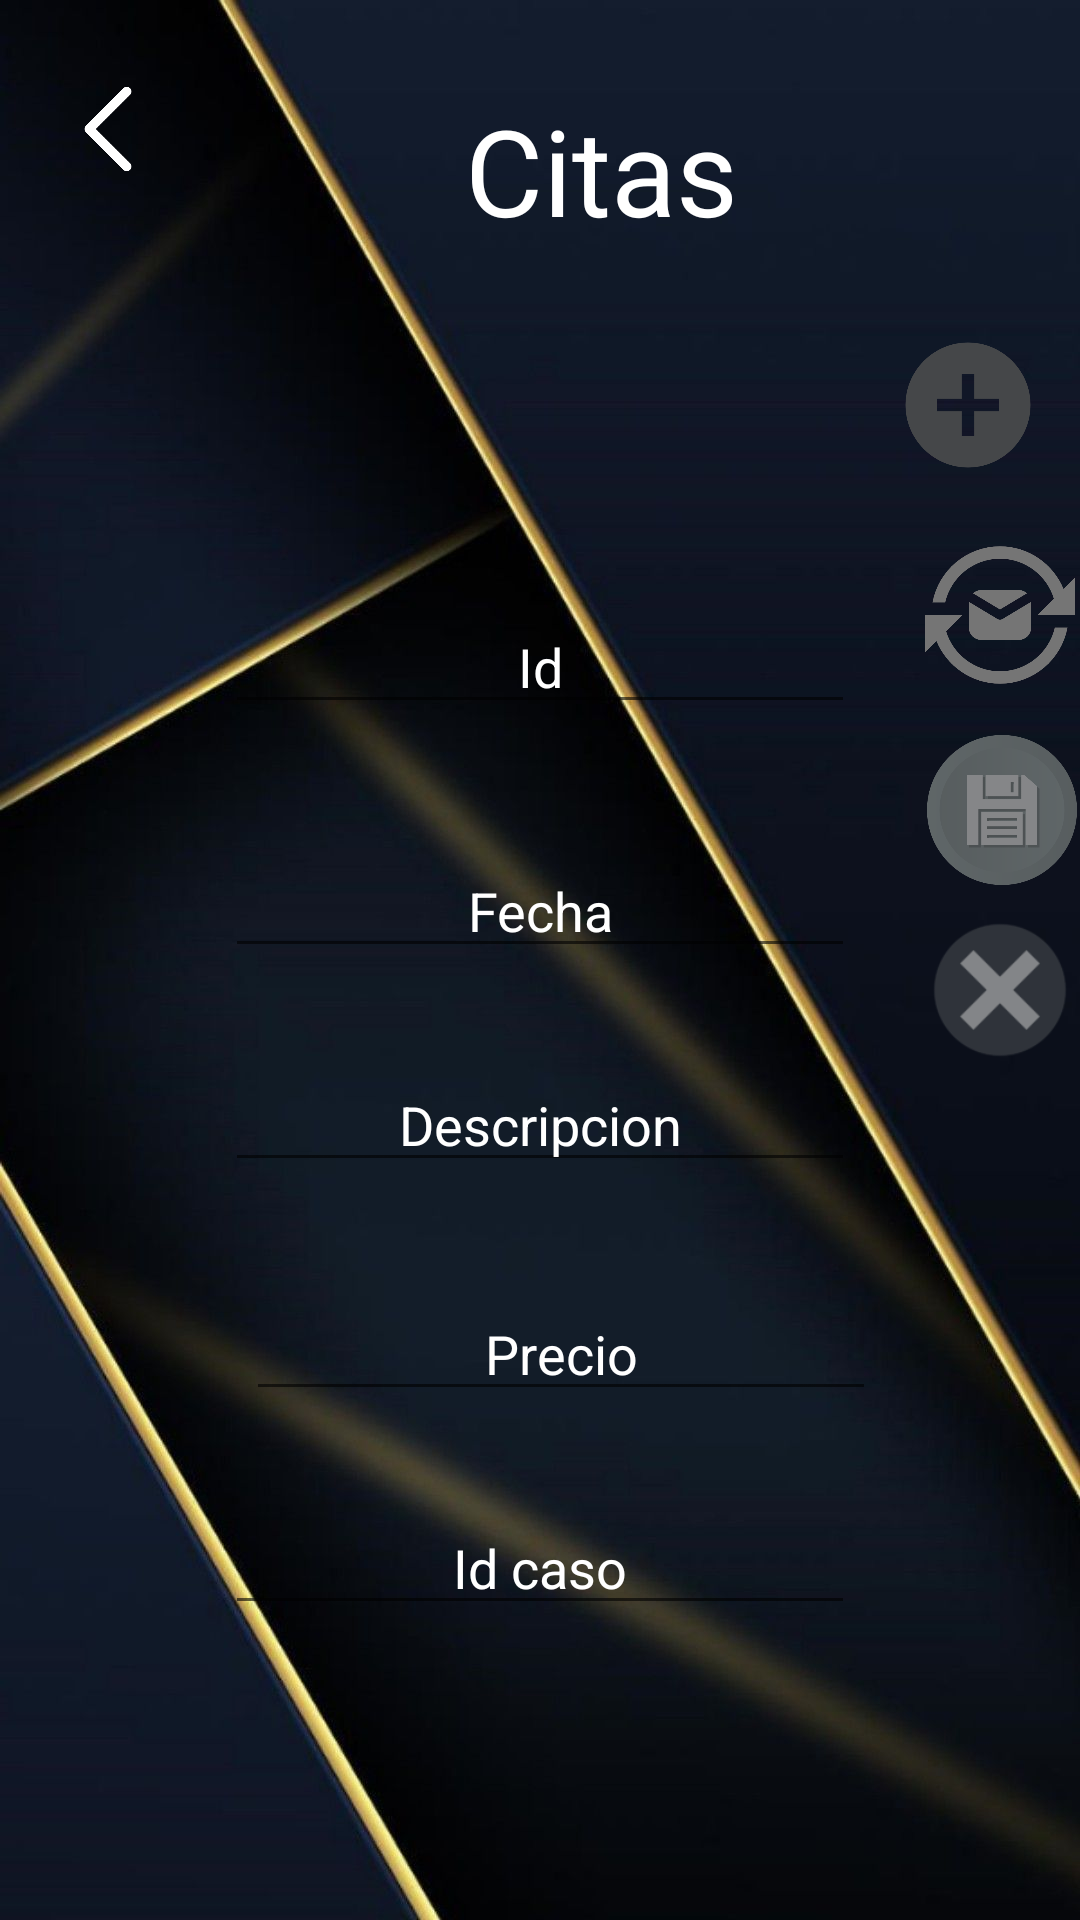

Screen size 1080w x 1920h. Icon name, then its center in pixels as [x,y]:
actualizar: [1000,615]
agregar: [967,405]
eliminar: [1000,990]
guardar: [1002,810]
